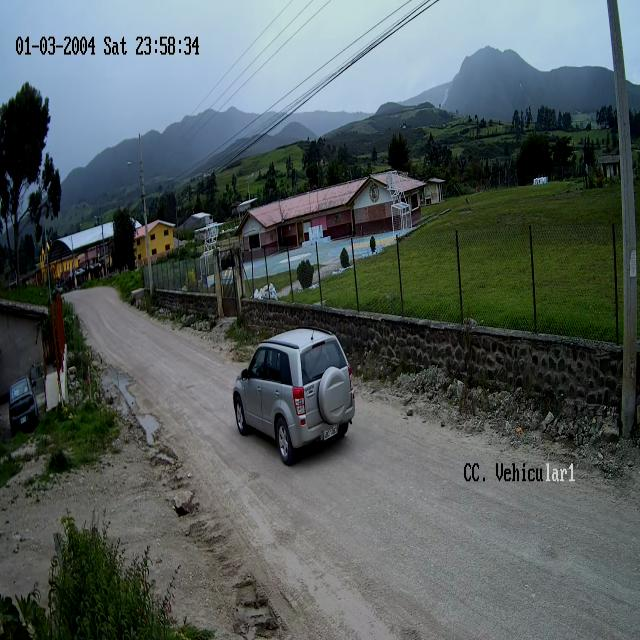SUV: (232, 330, 356, 467)
